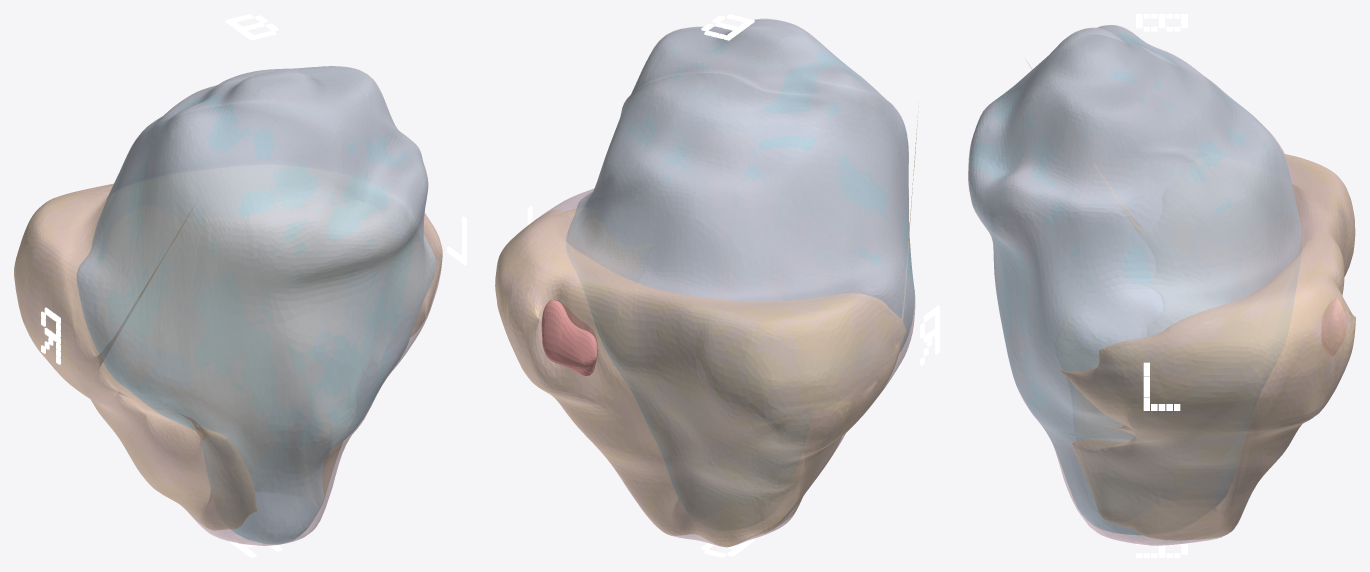
The picture shows the model from 3 angles, left to right: view 1: azimuth 30°, elevation 25°; view 2: azimuth 150°, elevation 25°; view 3: azimuth 270°, elevation 25°; orthographic projection.
Parts seen in each view (by area): view 1: prostate_gland, transition_zone, peripheral_zone, pv_ar_marker_B, pv_ar_marker_R; view 2: prostate_gland, transition_zone, peripheral_zone, lesion_01, pv_ar_marker_B, pv_ar_marker_R; view 3: prostate_gland, transition_zone, peripheral_zone, lesion_01, pv_ar_marker_B, pv_ar_marker_A, pv_ar_marker_L.
Part boxes in pixels (box(x1,y1,x2,y2)): prostate_gland: box(14, 66, 442, 545); transition_zone: box(76, 66, 436, 544); peripheral_zone: box(14, 183, 442, 530); pv_ar_marker_B: box(225, 14, 278, 40); pv_ar_marker_R: box(41, 307, 60, 364); prostate_gland: box(495, 18, 915, 546); transition_zone: box(566, 20, 914, 514); peripheral_zone: box(495, 102, 918, 547); lesion_01: box(541, 300, 597, 375); pv_ar_marker_B: box(701, 14, 754, 40); pv_ar_marker_R: box(920, 305, 939, 365); prostate_gland: box(968, 25, 1355, 545); transition_zone: box(969, 25, 1302, 534); peripheral_zone: box(1025, 59, 1355, 540); lesion_01: box(1321, 298, 1346, 357); pv_ar_marker_B: box(1136, 14, 1187, 31); pv_ar_marker_A: box(1136, 540, 1187, 557); pv_ar_marker_L: box(1143, 362, 1180, 410).
Size of the model in its own units: 0.0568 by 0.0691 by 0.046.
